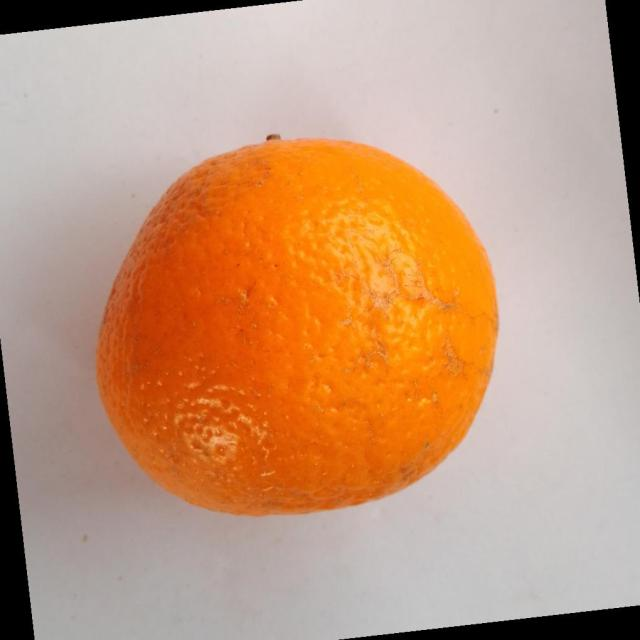fresh orange: (94, 132, 500, 517)
